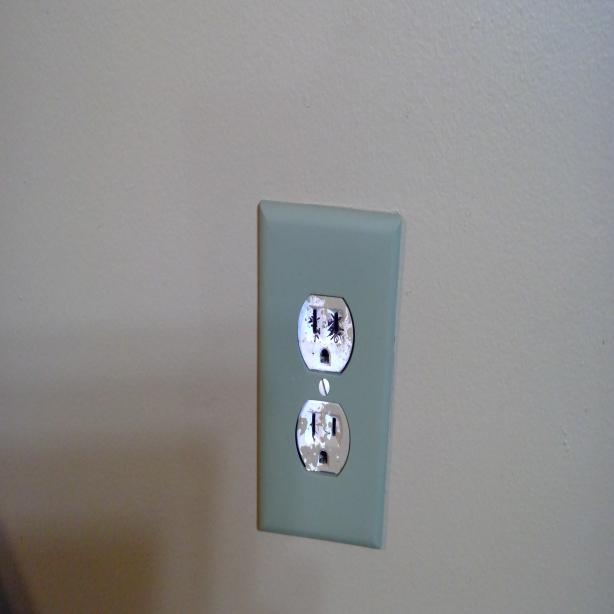typeb: (298, 282, 354, 373), (298, 401, 346, 474)
